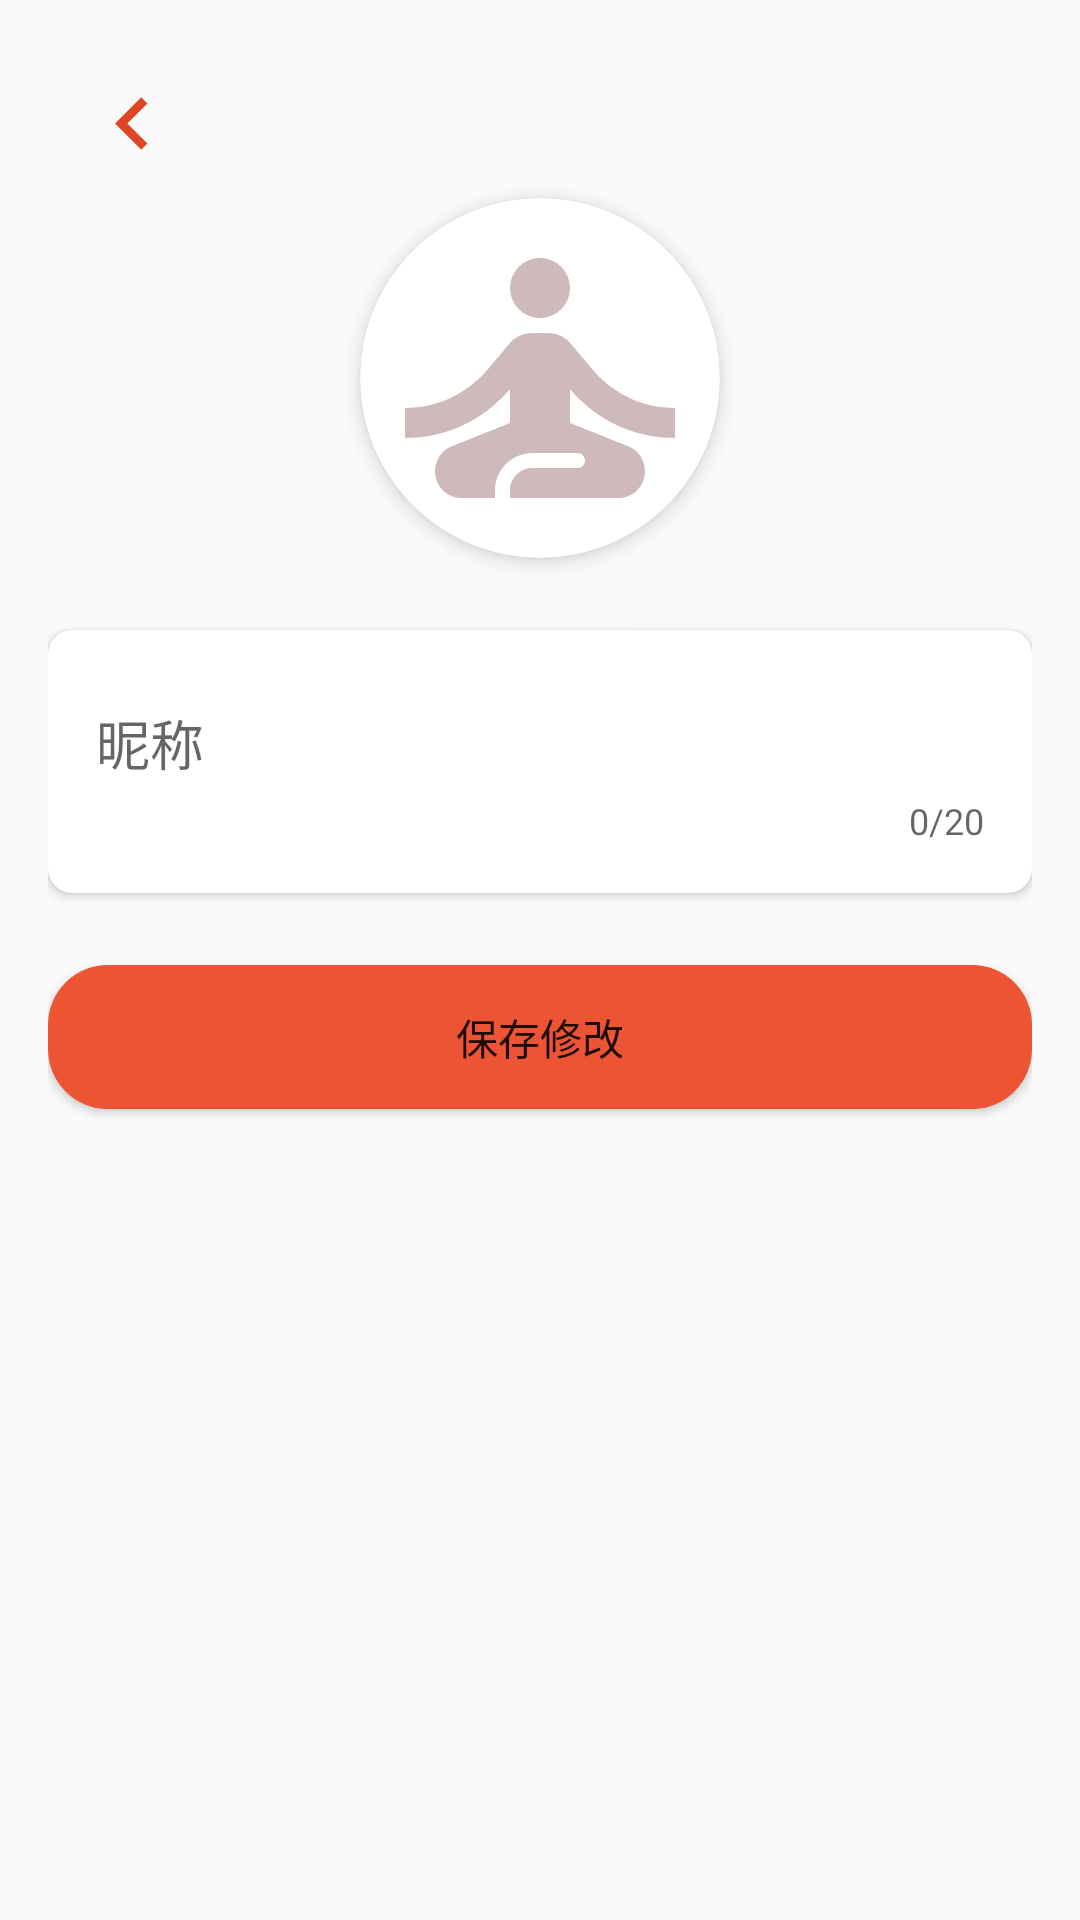

Icon bounding boxes for this 1080 x 1920 phone screenshot, format detection(x1, y1, x2, y2):
self improvement: detection(368, 258, 712, 558)
